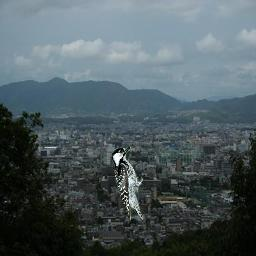Woodpecker: (111, 144, 143, 223)
